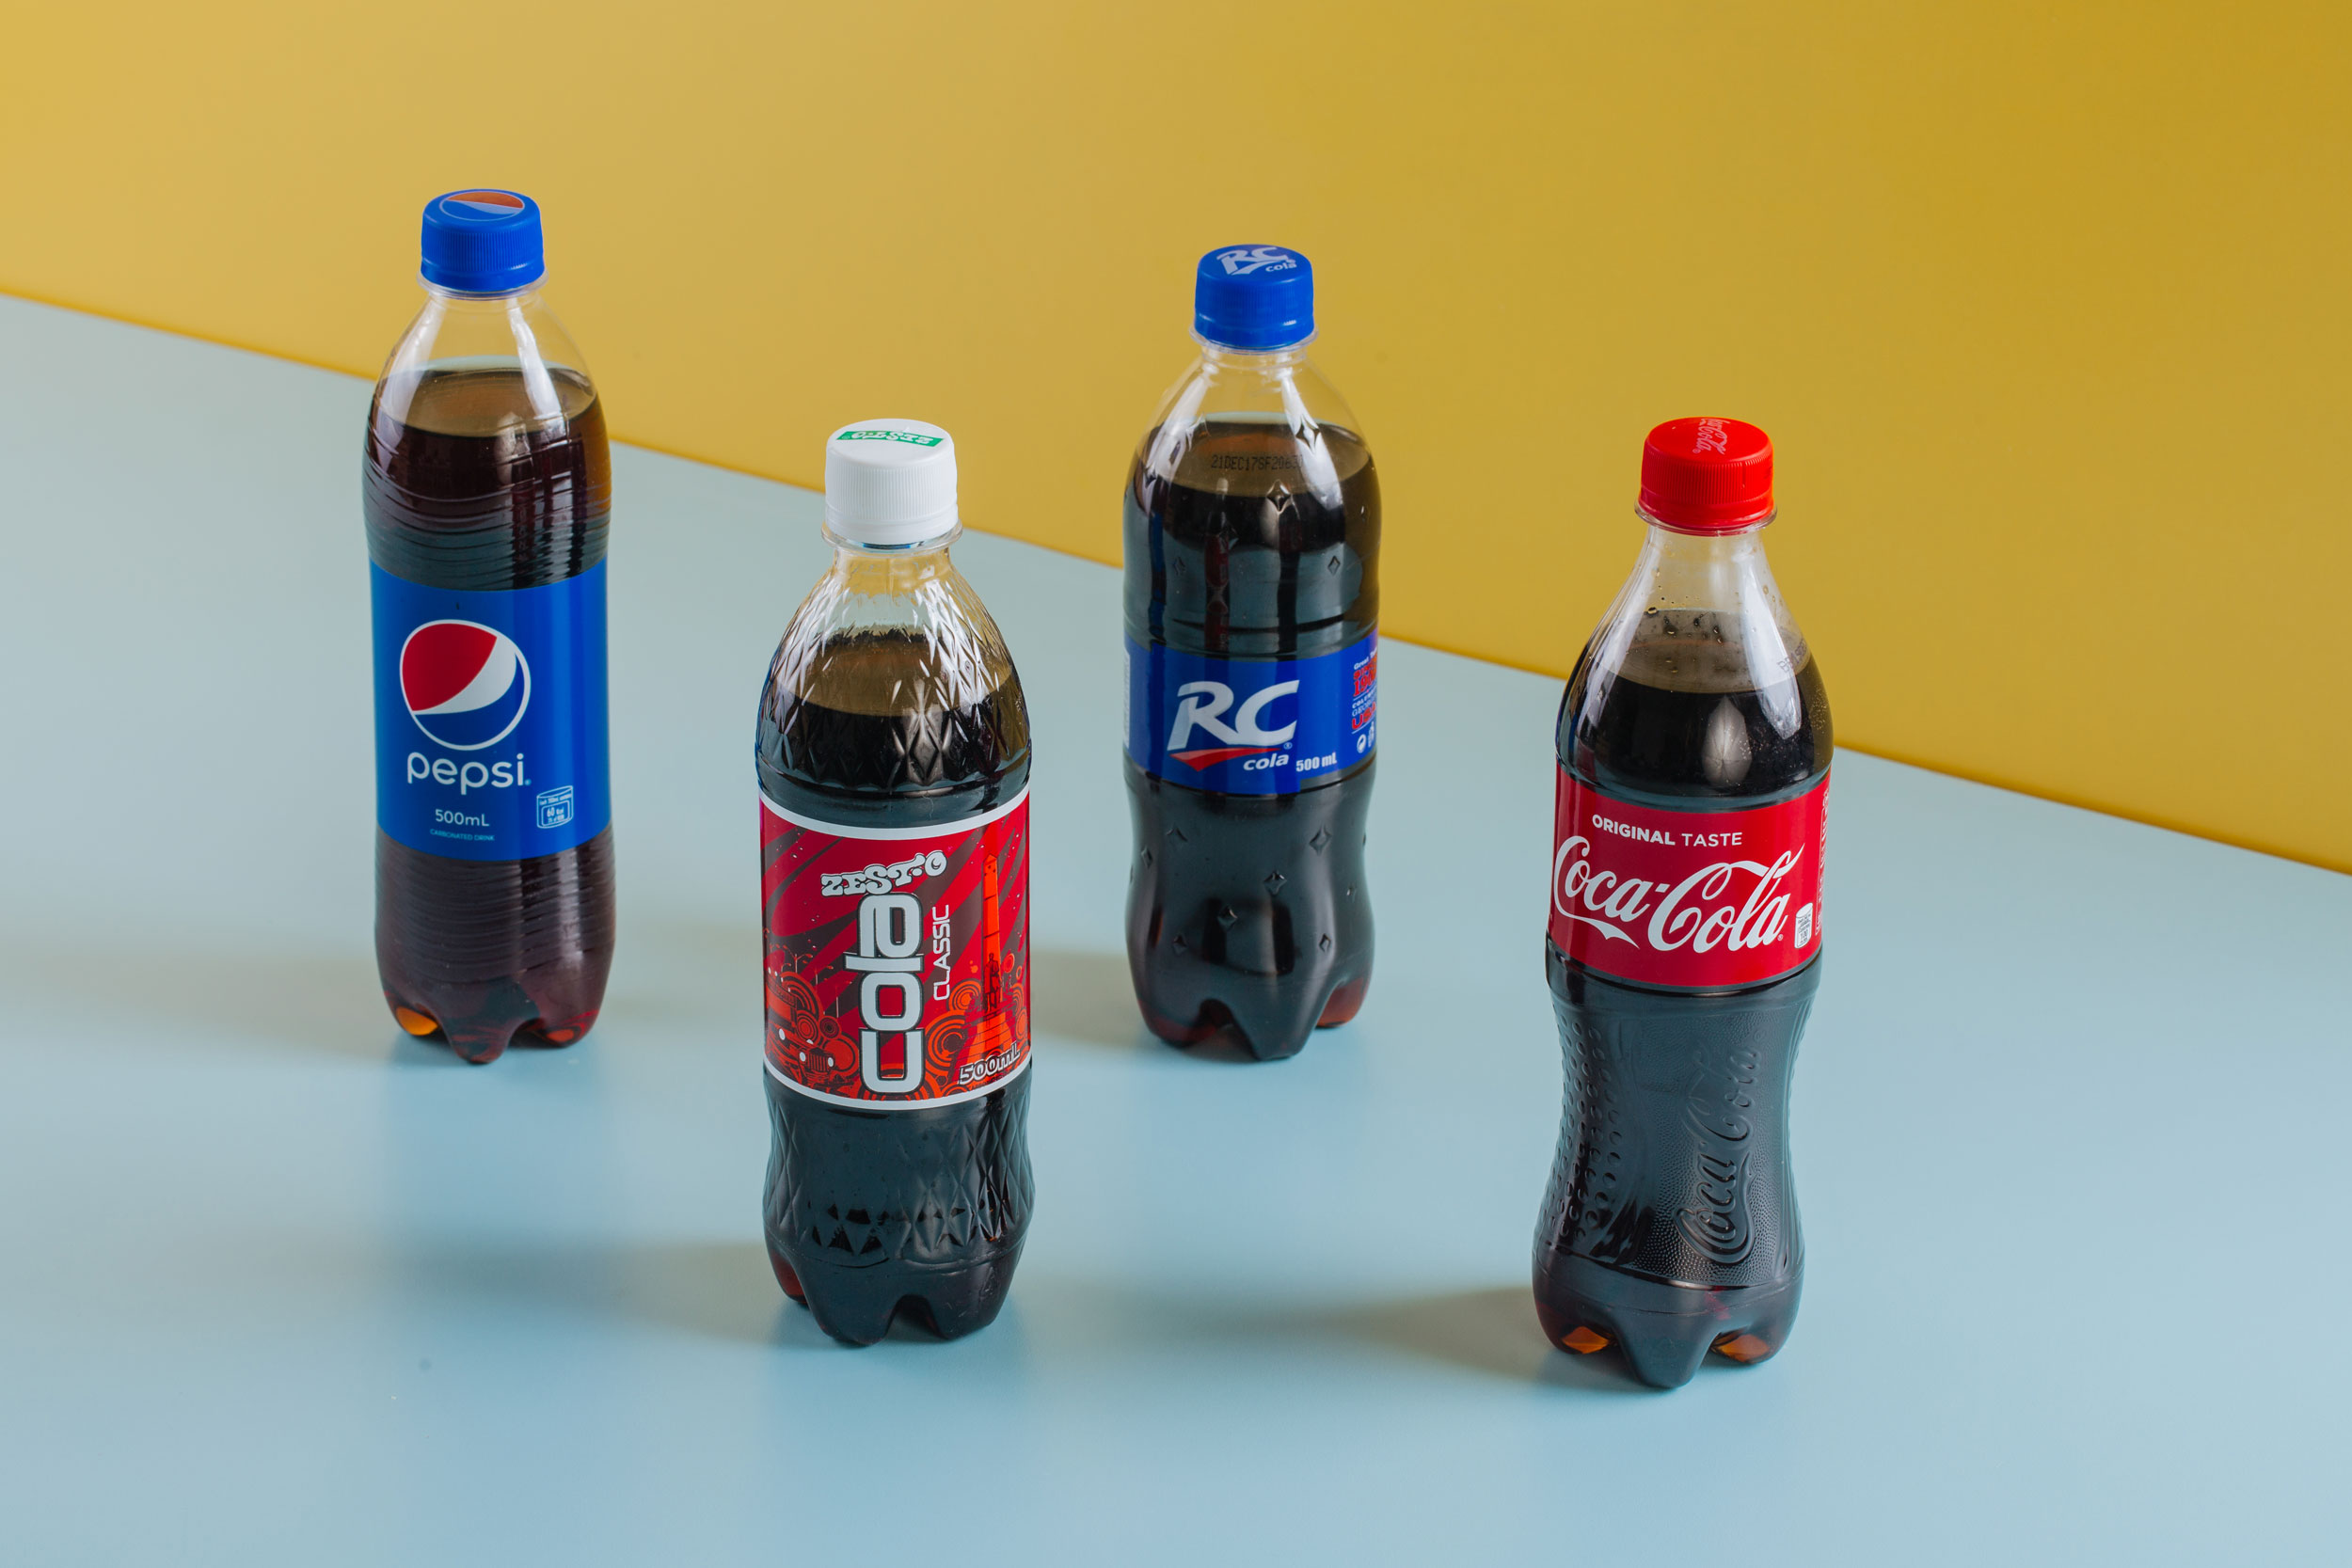pepsi: (388, 609, 534, 749), (388, 612, 534, 749)
